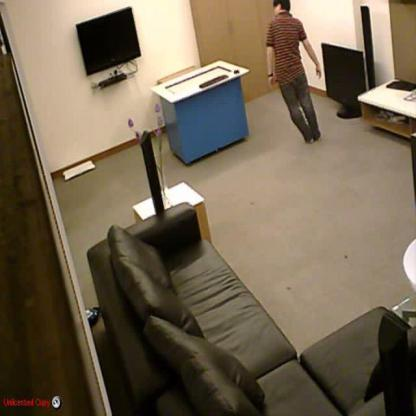Person: (265, 2, 321, 145)
